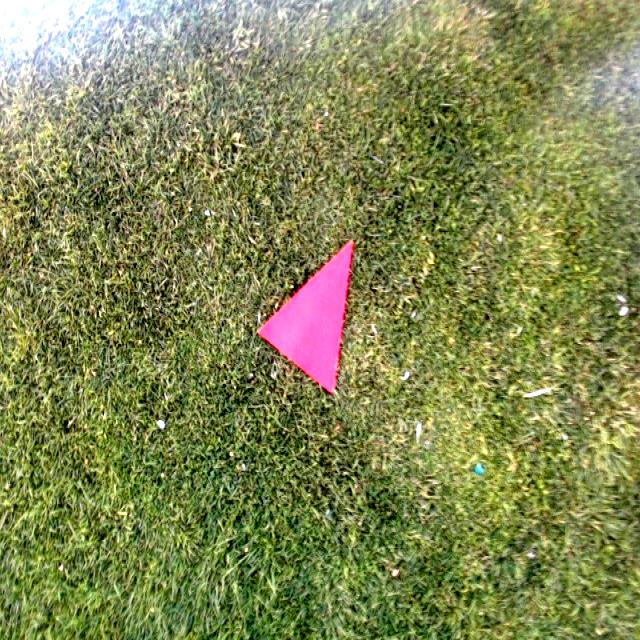red_triangle: (260, 238, 354, 395)
